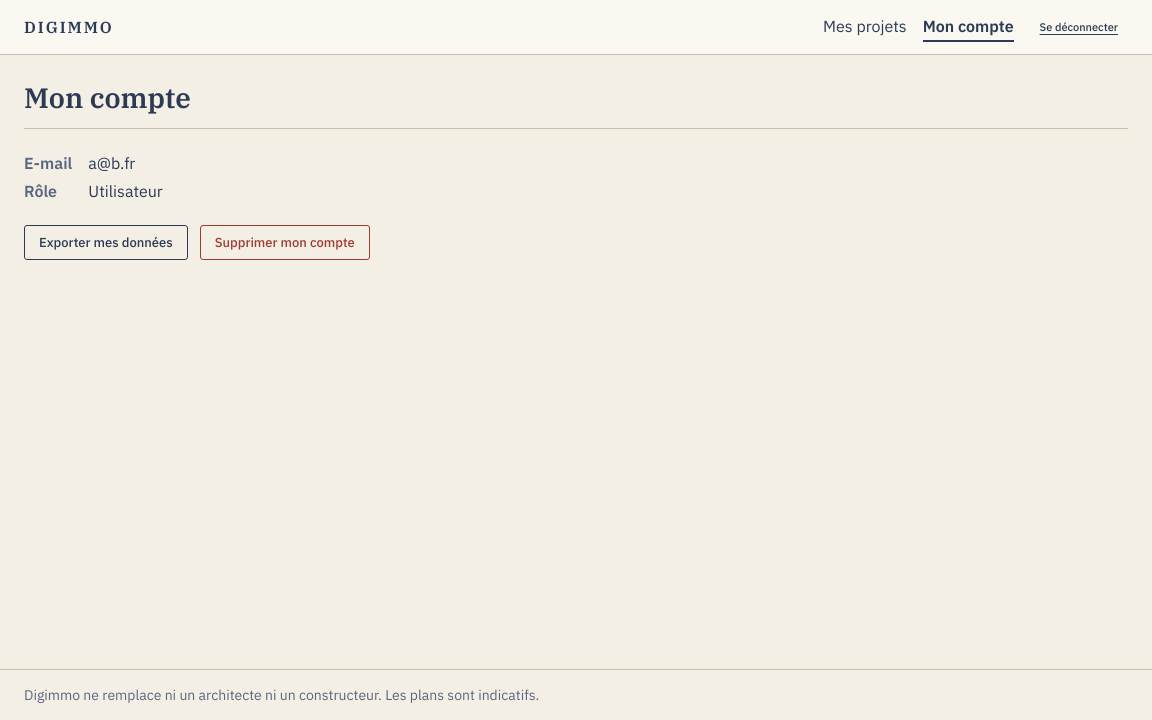
Scenario: mon compte › suppression : mauvais mot de passe => message dans la modale, compte toujours affiché
Click the button "Supprimer mon compte" at (285, 242), box [200,225,370,260]
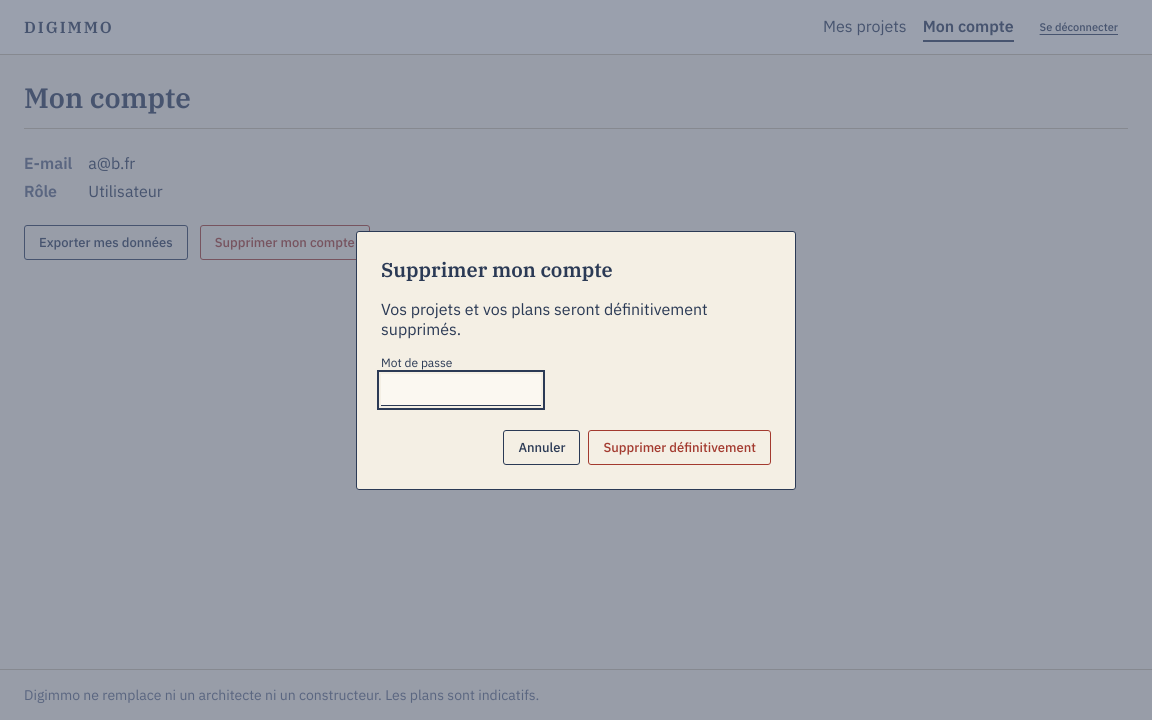
Type "mauvais" into the password field labelled "Mot de passe" at (461, 390), box [381,374,541,406]
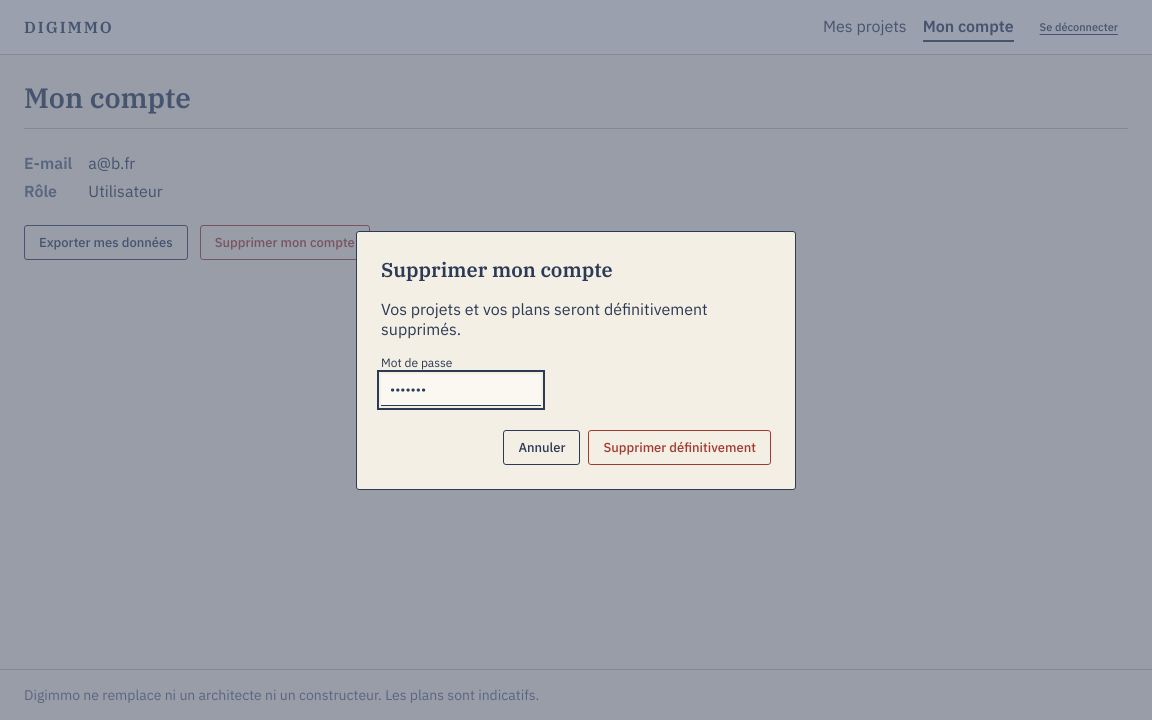
Click the button "Supprimer définitivement" at (680, 447), box [588,430,771,464]
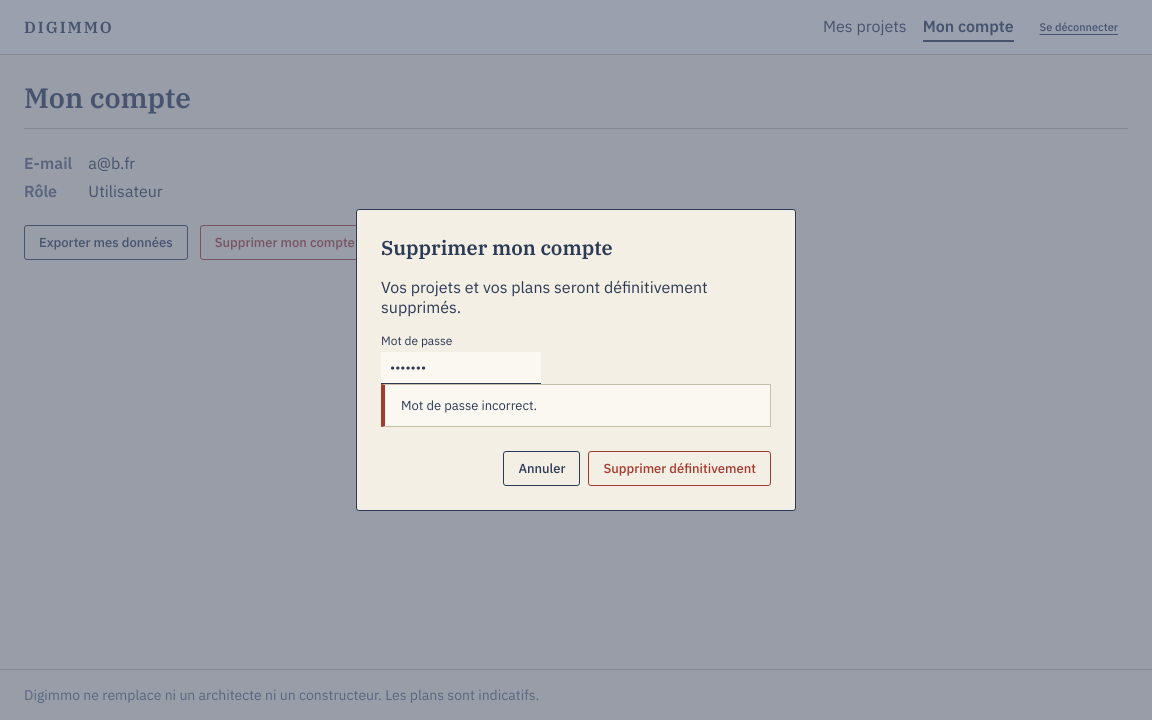
Check: the heading "Mon compte" is shown, box [24,79,191,116]
Check: the dialog is shown, box [356,209,796,511]
Check: the message reads "Mot de passe incorrect.", box [401,397,537,414]
